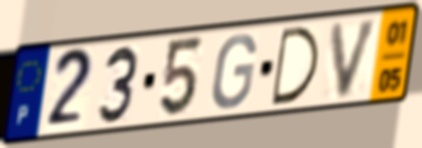2: (42, 45, 98, 136)
3: (95, 42, 141, 127)
5: (158, 33, 207, 121)
D: (269, 24, 322, 109)
G: (209, 32, 259, 112)
V: (328, 15, 382, 102)
